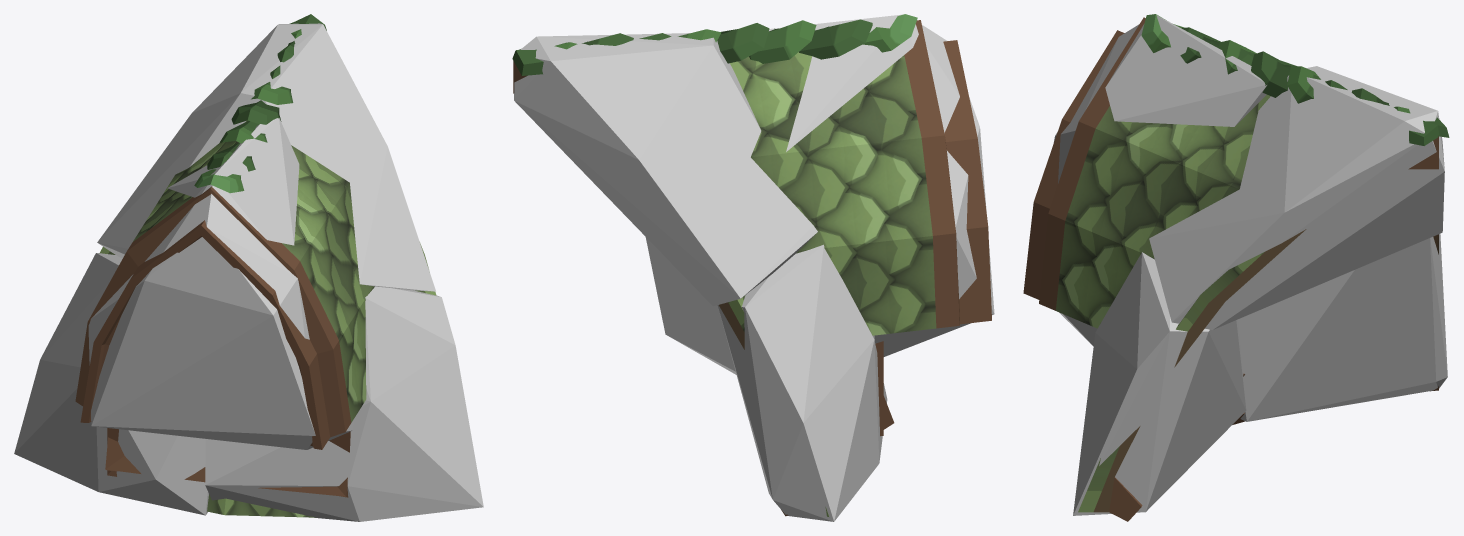
Rendered from SM_Bld_Roof_Convex_Corner_Round_Window_01.fbx.
3 renders of one model, left to right at view 1: azimuth 30°, elevation 25°; view 2: azimuth 150°, elevation 25°; view 3: azimuth 270°, elevation 25°, orthographic. The views are drawn at different scales.
Visible parts, largest first — view 1: SM_Bld_Roof_Convex_Corner_Round_Window_01_ConvexHulls, SM_Bld_Roof_Convex_Corner_Round_Window_01; view 2: SM_Bld_Roof_Convex_Corner_Round_Window_01_ConvexHulls, SM_Bld_Roof_Convex_Corner_Round_Window_01; view 3: SM_Bld_Roof_Convex_Corner_Round_Window_01_ConvexHulls, SM_Bld_Roof_Convex_Corner_Round_Window_01.
Part boxes in pixels (x1=…): SM_Bld_Roof_Convex_Corner_Round_Window_01_ConvexHulls: x1=14, y1=23, x2=483, y2=521; SM_Bld_Roof_Convex_Corner_Round_Window_01: x1=75, y1=14, x2=436, y2=517; SM_Bld_Roof_Convex_Corner_Round_Window_01_ConvexHulls: x1=514, y1=14, x2=994, y2=521; SM_Bld_Roof_Convex_Corner_Round_Window_01: x1=512, y1=14, x2=991, y2=516; SM_Bld_Roof_Convex_Corner_Round_Window_01_ConvexHulls: x1=1053, y1=15, x2=1447, y2=515; SM_Bld_Roof_Convex_Corner_Round_Window_01: x1=1023, y1=14, x2=1449, y2=521.
Size of the model in its own units: 308 by 308 by 320.
Materials: 4 (3 with a texture image).
